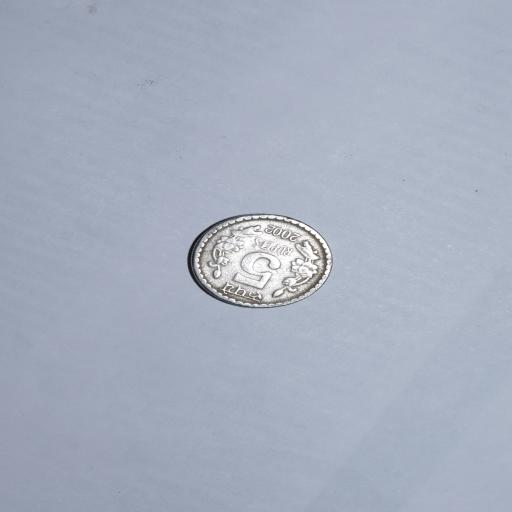rupee5: (184, 212, 335, 310)
